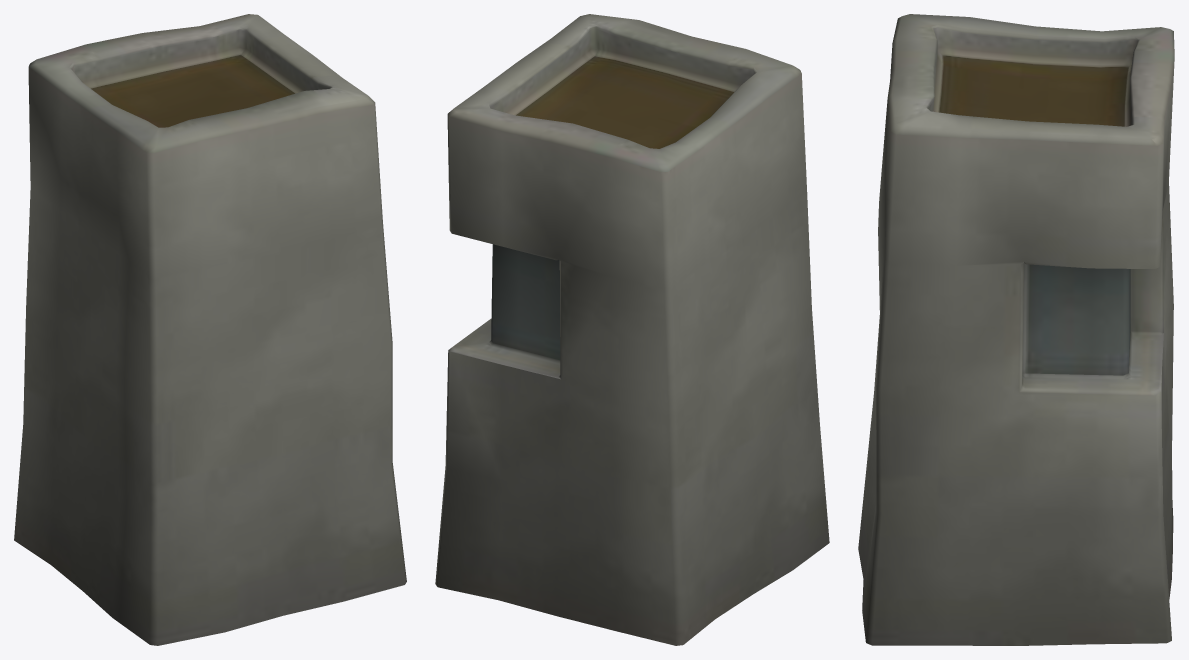
The model's file is MSH_Building_010.glb.
3 renders of one model, left to right at view 1: azimuth 30°, elevation 25°; view 2: azimuth 150°, elevation 25°; view 3: azimuth 270°, elevation 25°, orthographic. The views are drawn at different scales.
Parts seen in each view (by area): view 1: Base.010; view 2: Base.010; view 3: Base.010.
Part boxes in pixels (x1,y1,x2,y2): Base.010: (14, 14, 406, 645); Base.010: (435, 14, 829, 645); Base.010: (858, 14, 1174, 645).
Size of the model in its own units: 5.38 by 9.68 by 5.41.
1 material, 1 textured.
